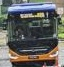bus: (37, 12, 45, 17)
